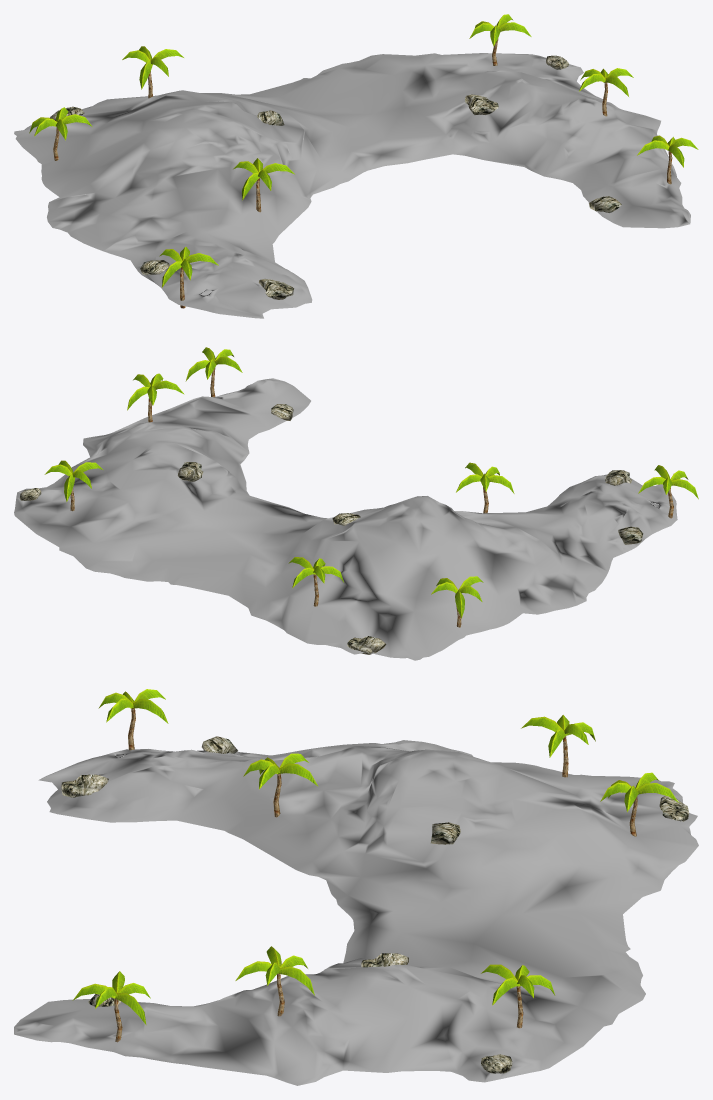
Rendered from desert_island_06.fbx.
The picture shows the model from 3 angles, top to bottom: view 1: azimuth 30°, elevation 25°; view 2: azimuth 150°, elevation 25°; view 3: azimuth 270°, elevation 25°; orthographic projection. The views are drawn at different scales.
Visible parts, largest first — view 1: desert_island_06; view 2: desert_island_06; view 3: desert_island_06.
Part boxes in pixels (x1,y1,x2,y2): desert_island_06: [14, 14, 698, 318]; desert_island_06: [14, 347, 698, 660]; desert_island_06: [14, 689, 698, 1085].
Size of the model in its own units: 0.7633 by 0.1005 by 0.6347.
Materials: 2 (1 with a texture image).
